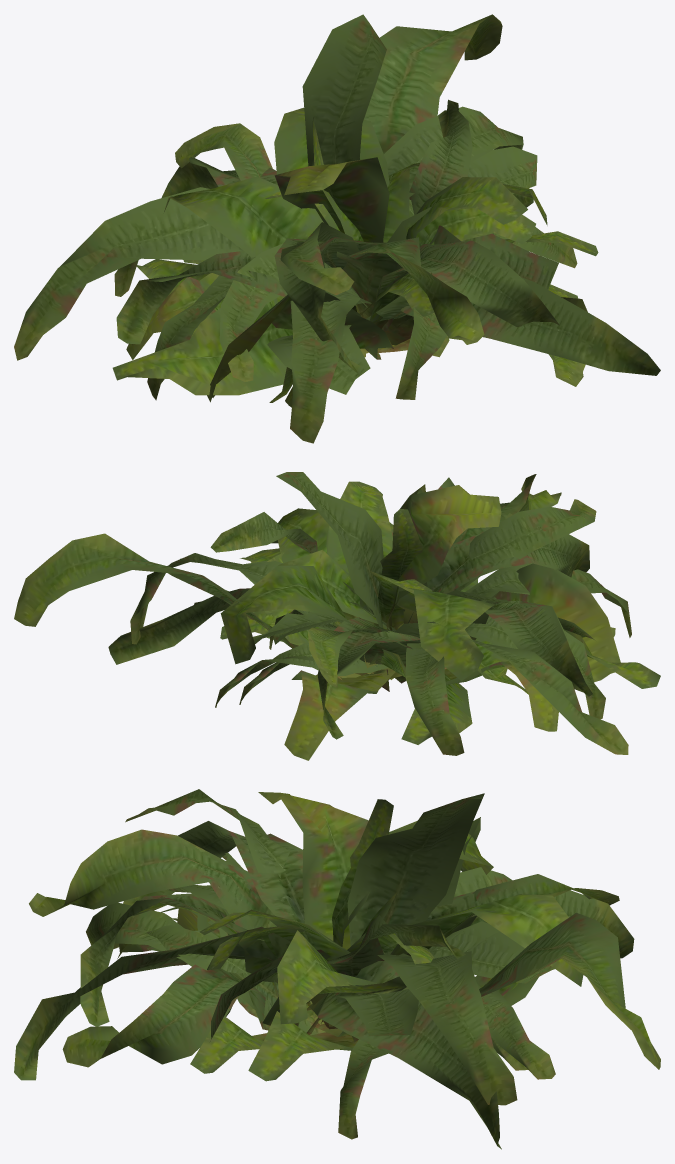
The model's file is fern_02.glb.
3 renders of one model, top to bottom at view 1: azimuth 30°, elevation 25°; view 2: azimuth 150°, elevation 25°; view 3: azimuth 270°, elevation 25°, orthographic. The views are drawn at different scales.
Visible parts, largest first — view 1: fern_02_b; view 2: fern_02_b; view 3: fern_02_b.
Part boxes in pixels (x1=…): fern_02_b: x1=14, y1=14, x2=660, y2=443; fern_02_b: x1=14, y1=472, x2=660, y2=760; fern_02_b: x1=14, y1=789, x2=660, y2=1149.
Bounding box in the file's own units: 0.9897 × 0.426 × 0.8875.
1 material, 1 textured.
